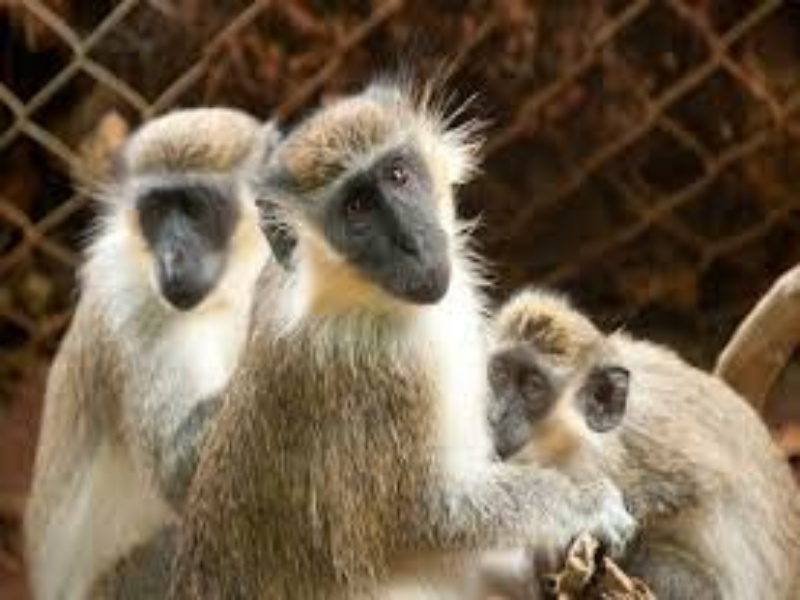monkey: (33, 89, 772, 596)
